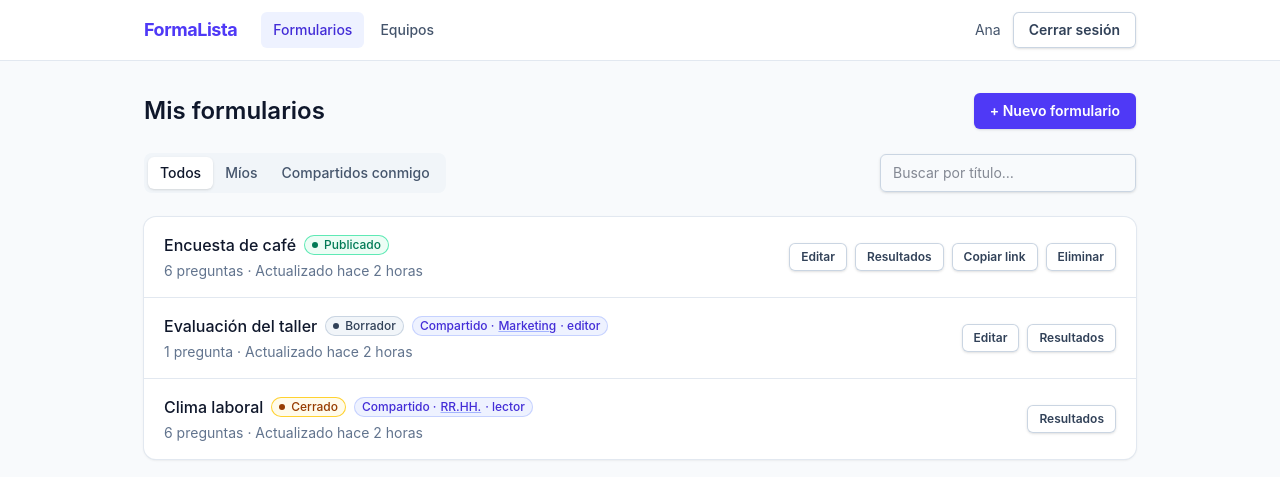
Test case: Mis formularios: lista › pestañas y búsqueda filtran en el cliente (sin tildes ni mayúsculas)
The image size is (1280, 477).
Click the button "Compartidos conmigo" at coordinates (356, 173), box [270,157,442,189]
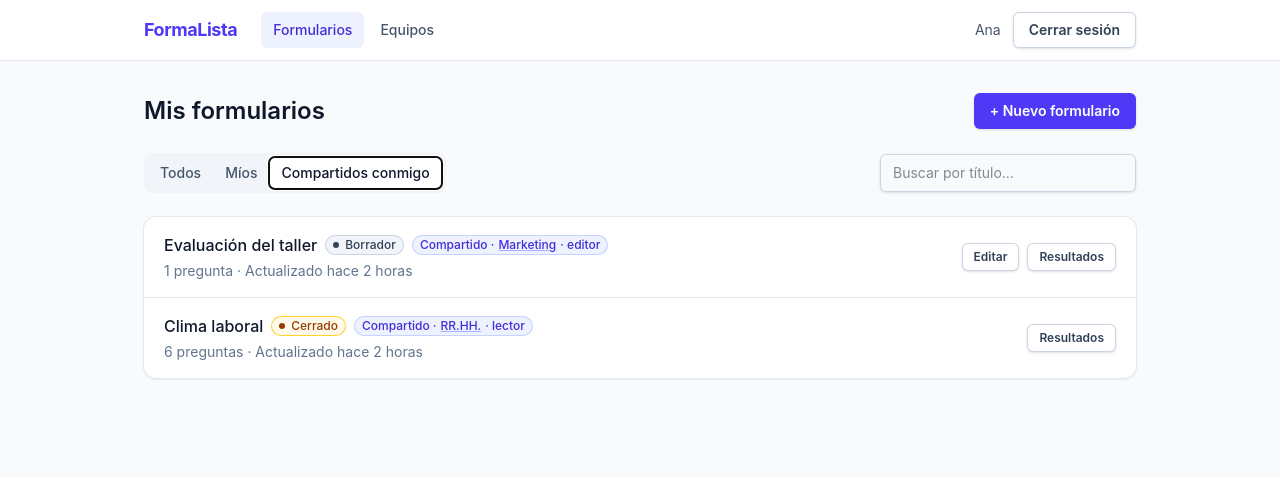
Check: the button "Compartidos conmigo" is pressed, box [270,157,442,189]
Click the button "Míos" at coordinates (241, 173), box [213,157,270,189]
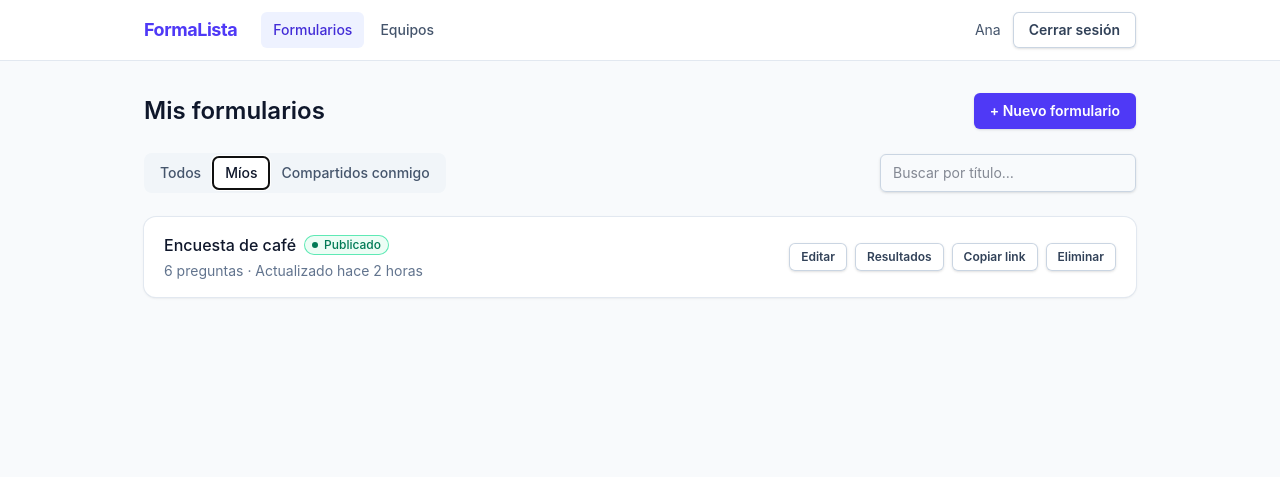
Click the button "Todos" at coordinates (181, 173), box [148,157,213,189]
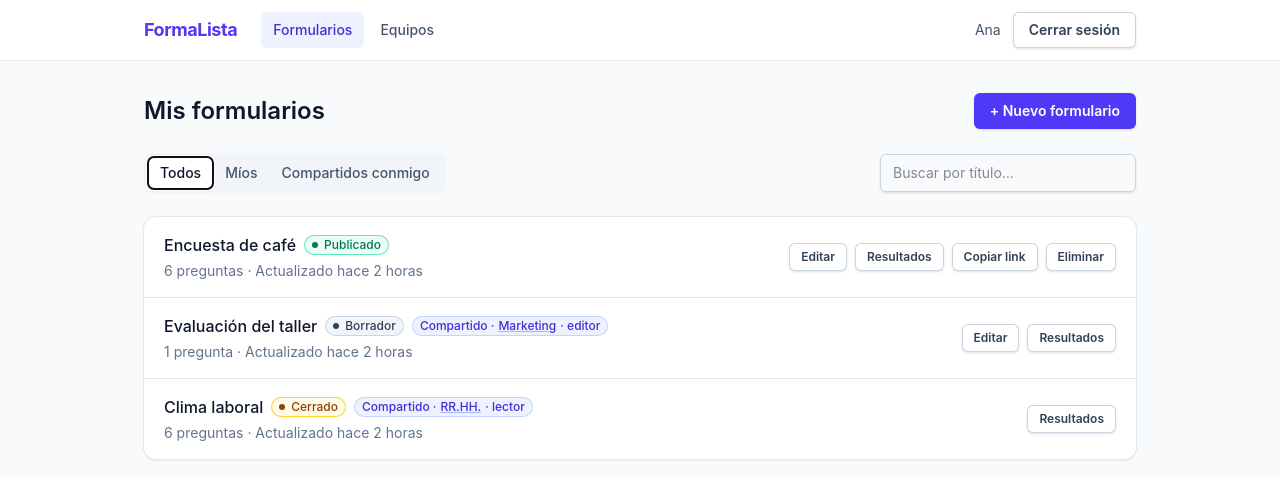
Type "EVALUACION" into the search field labelled "Buscar por título" at coordinates (1008, 173), box [880,154,1136,192]
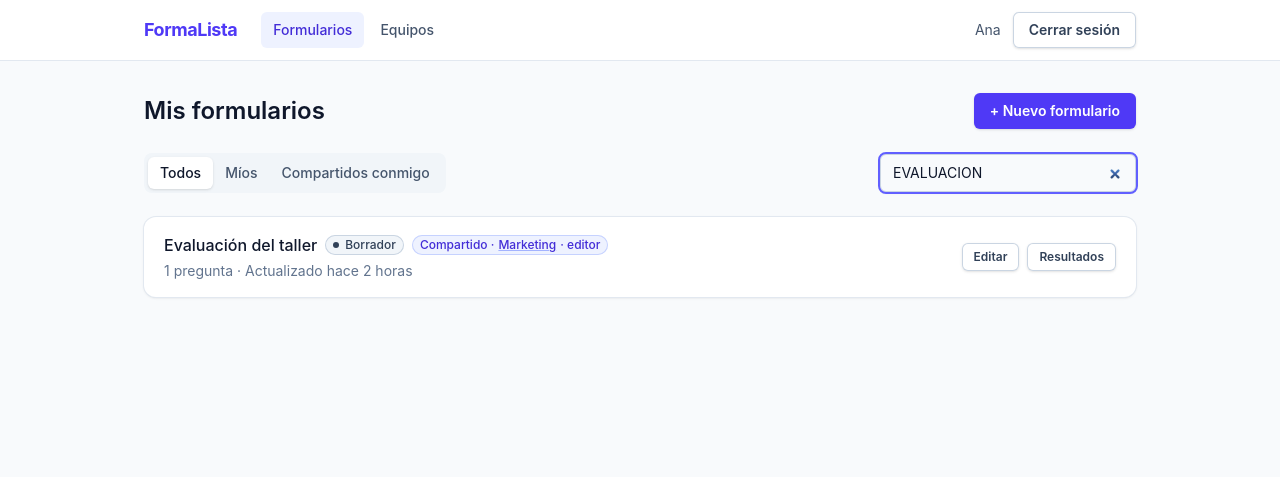
Type " inexistente" into the search field named "Buscar por título" at coordinates (1008, 173), box [880,154,1136,192]
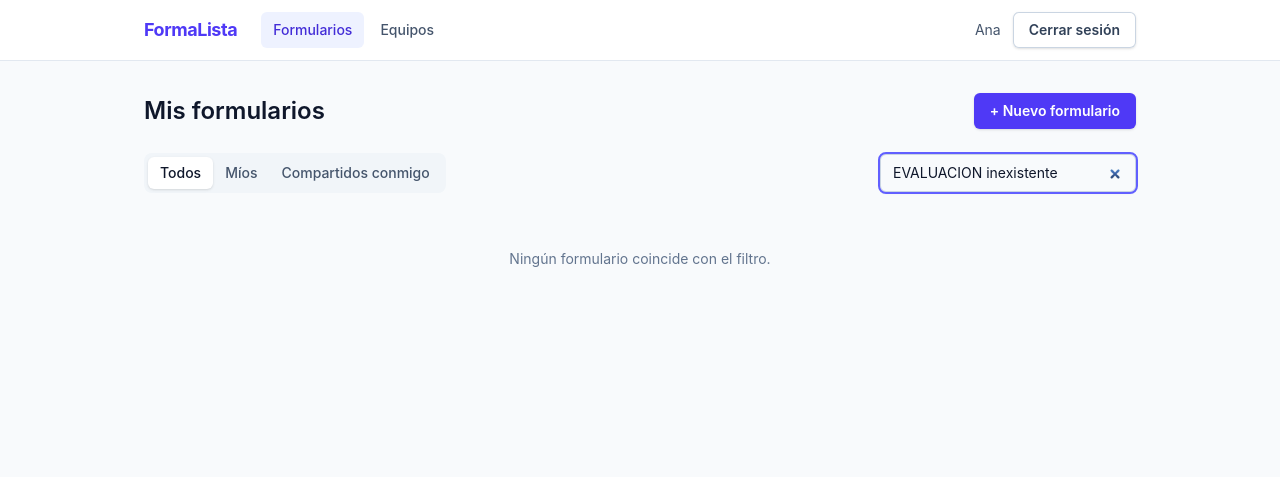
Check: the text "Ningún formulario coincide con el filtro." is shown, box [509,250,771,267]
